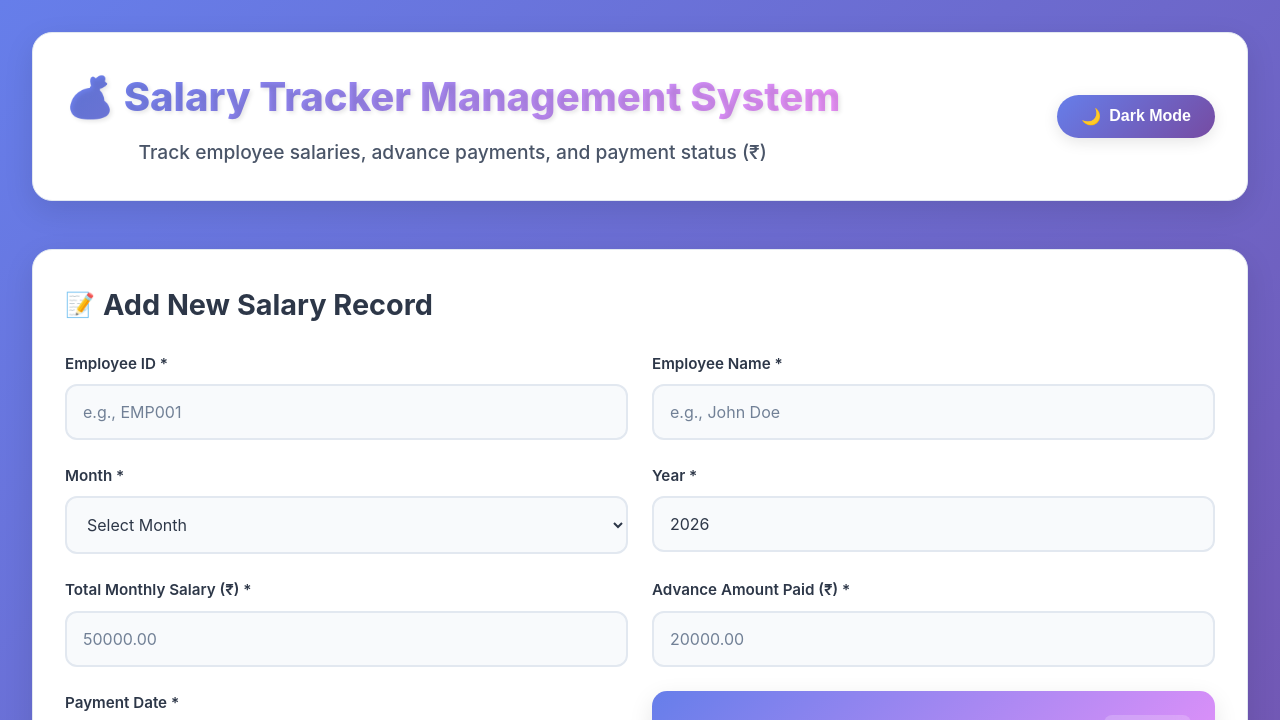
Test: SalaryTracker Component › updates payment status based on amounts
The width and height of the screenshot is (1280, 720).
# Test "Paid" status
Type "5000" into the number field labelled "Total Monthly Salary (₹) *".
click(346, 639); type("5000")  # box 65,611 -> 628,667
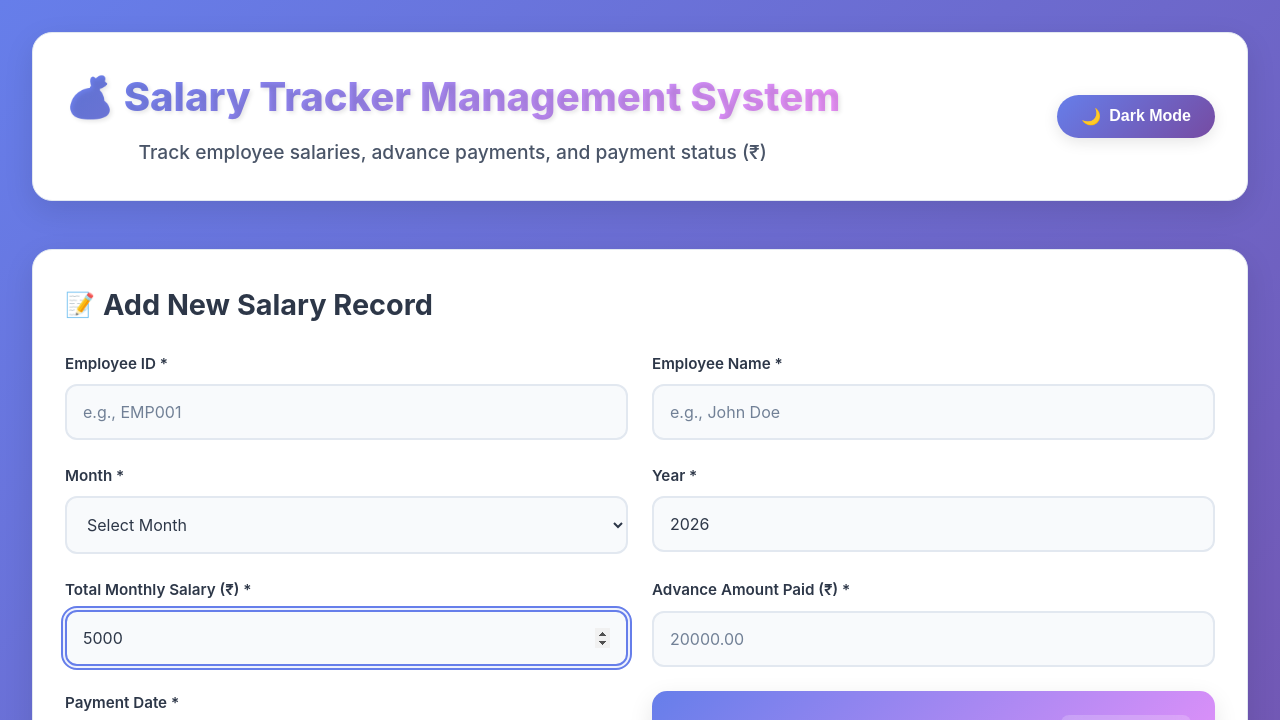
Type "5000" into the number field labelled "Advance Amount Paid (₹) *".
click(934, 639); type("5000")  # box 652,611 -> 1215,667
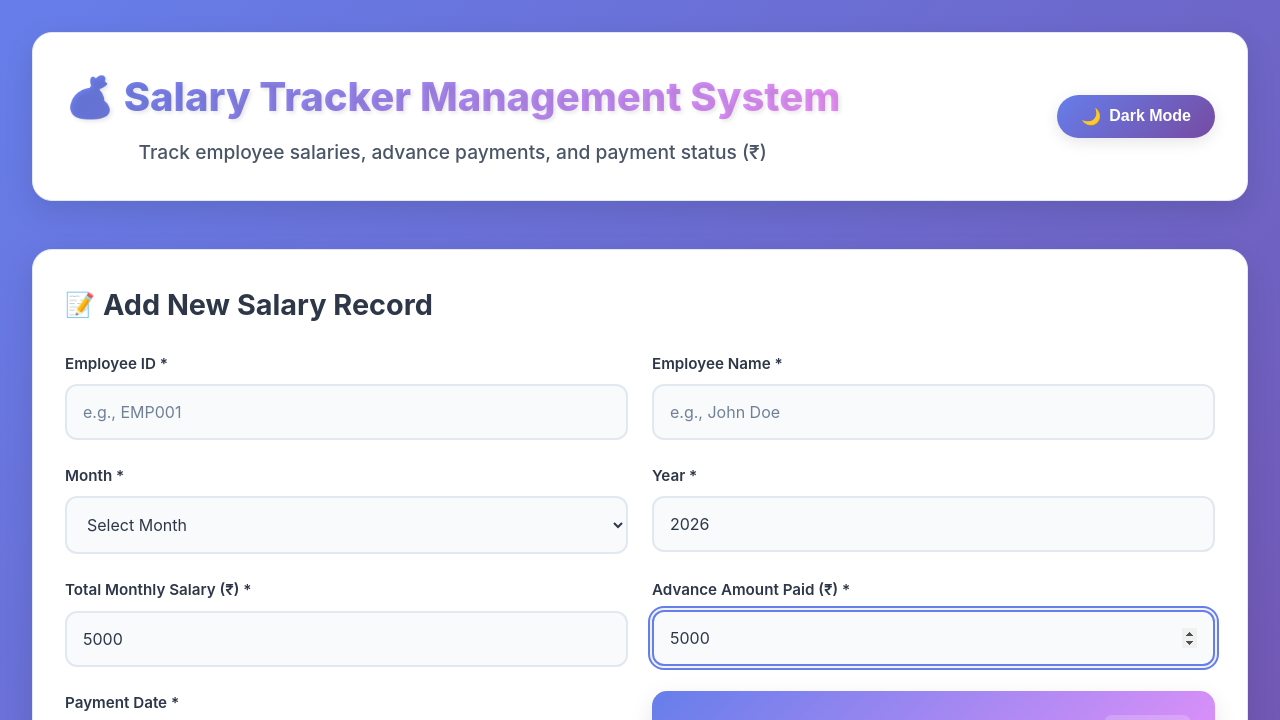
# Clear and test "Pending" status
Replace the text in the number field labelled "Advance Amount Paid (₹) *" with "0" at (934, 638), box 652,610 -> 1215,666
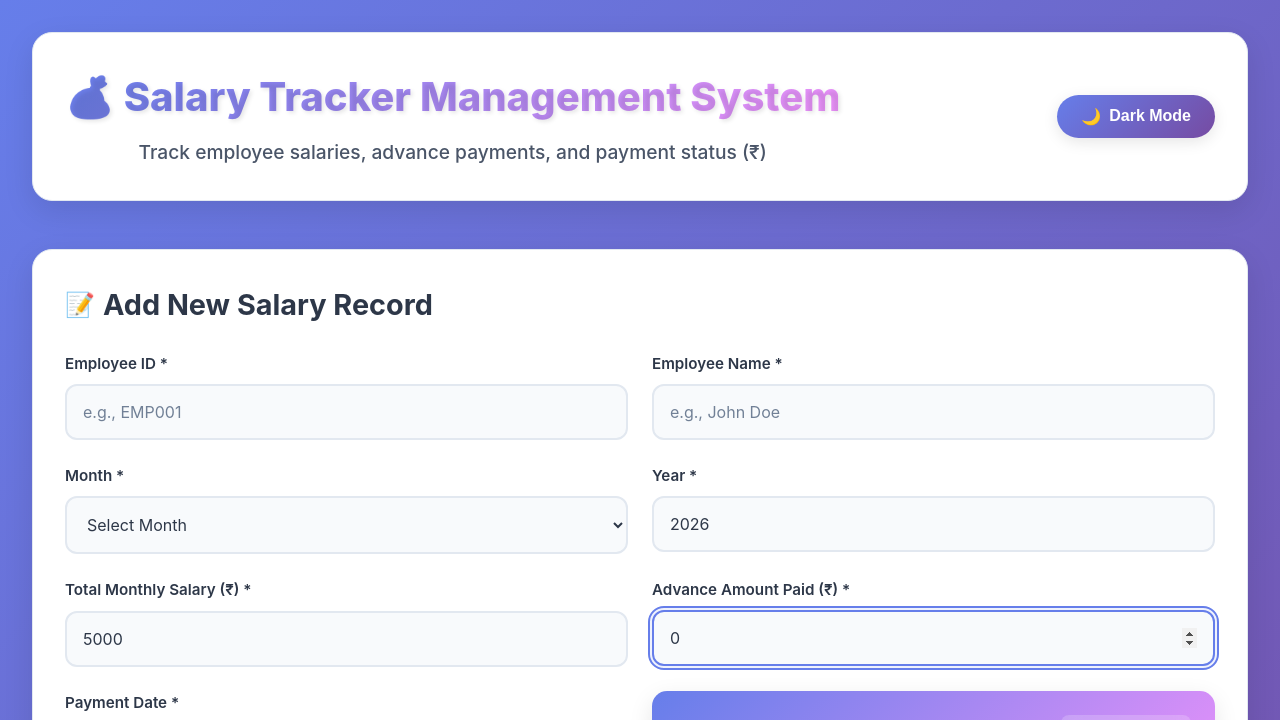
# Test "Partially Paid" status
Replace the text in the number field labelled "Advance Amount Paid (₹) *" with "2000" at (934, 638), box 652,610 -> 1215,666
(page scrolled)
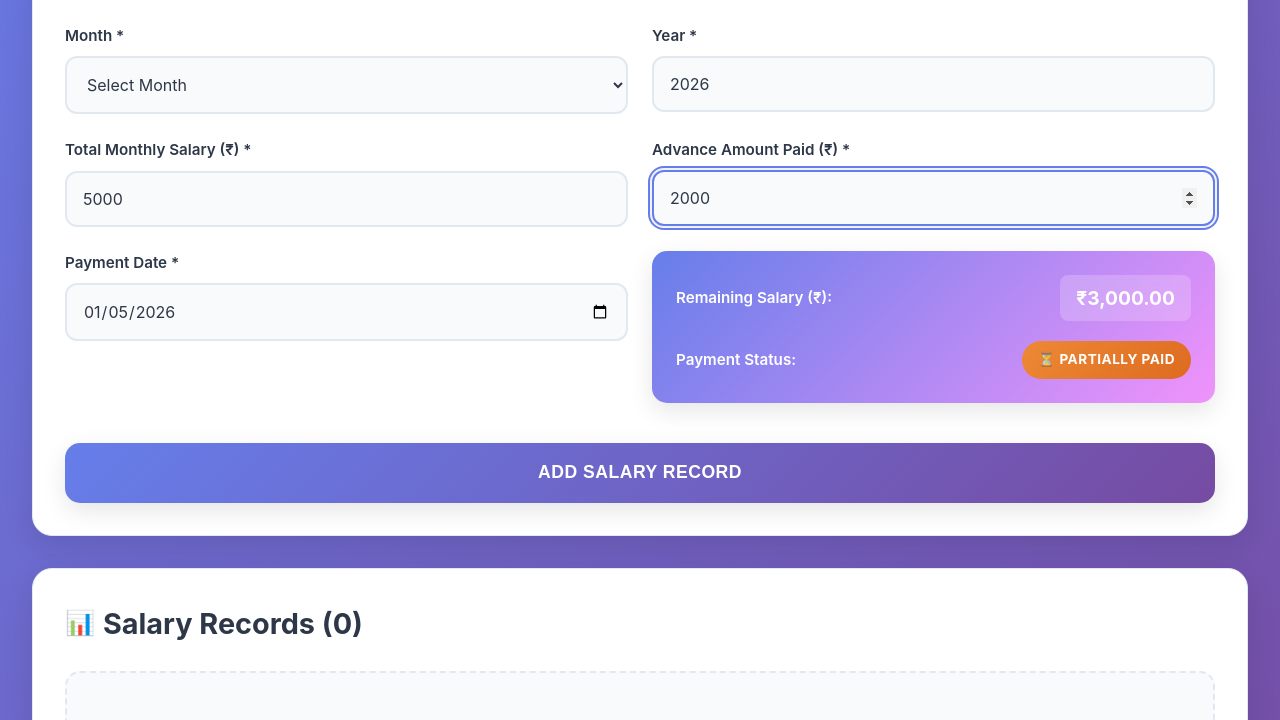
Expected: the text "Partially Paid" is shown, 1022,341 -> 1191,379
